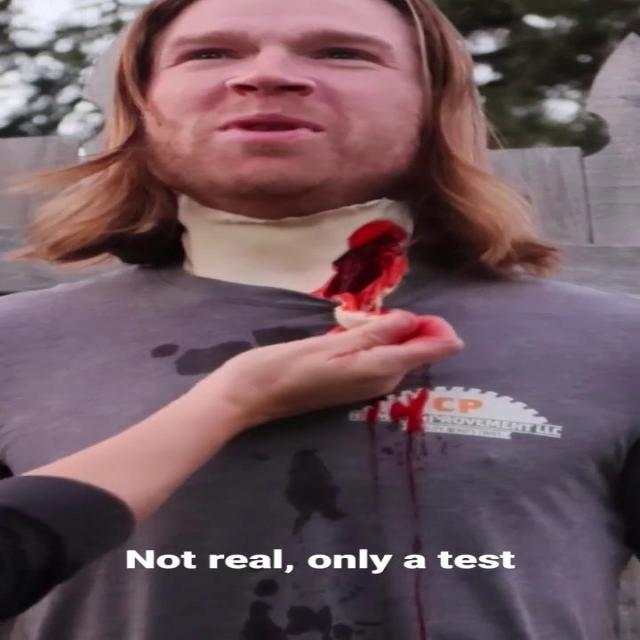flood: (310, 220, 440, 454)
